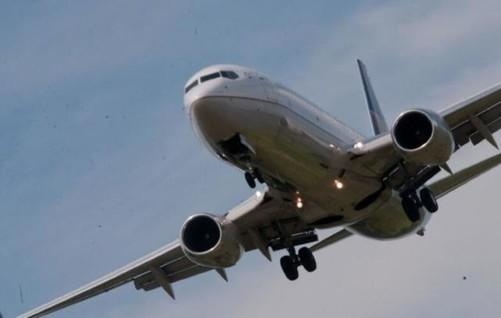airplane: (1, 62, 501, 317)
